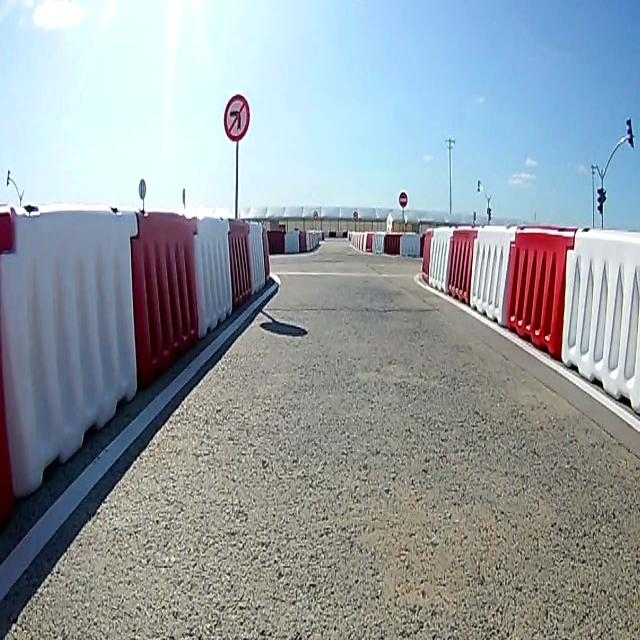girisyok: (398, 190, 408, 208)
soladonulmez: (223, 94, 250, 142)
